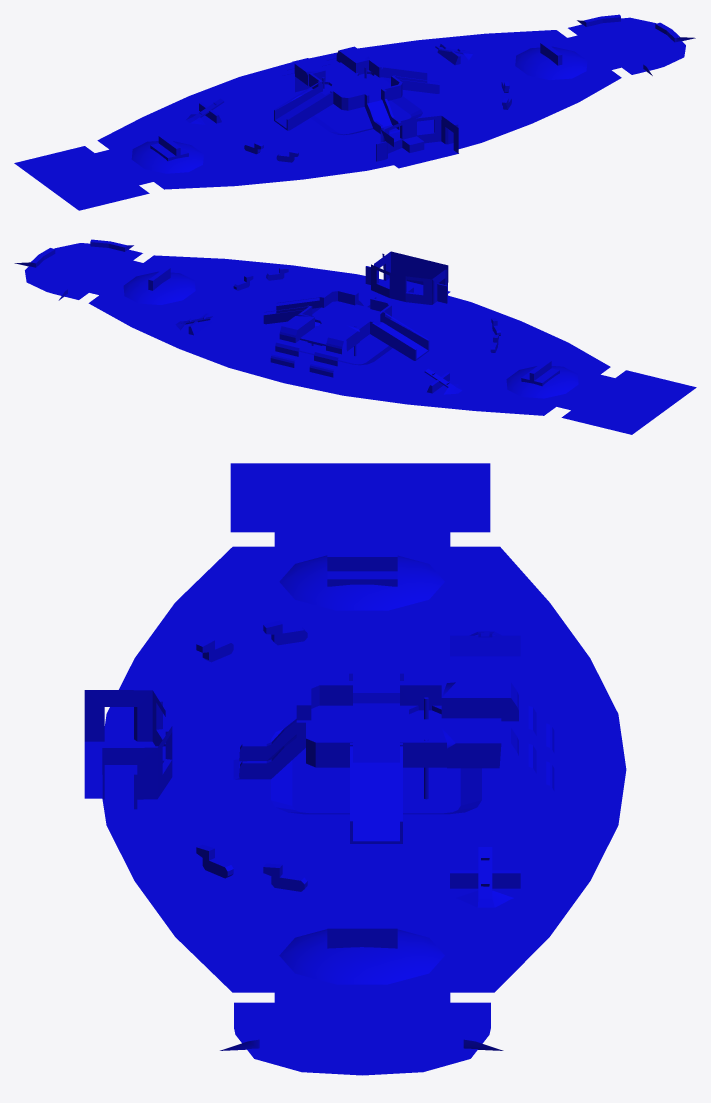
Rendered from gltf__Models__map__Village__playGround__playGround_mergedCollision.glb.
3 renders of one model, top to bottom at view 1: azimuth 30°, elevation 25°; view 2: azimuth 150°, elevation 25°; view 3: azimuth 270°, elevation 25°, orthographic. The views are drawn at different scales.
Visible parts, largest first — view 1: playGround_mergedCollision; view 2: playGround_mergedCollision; view 3: playGround_mergedCollision.
Boxes of the visible parts, box(x1,y1,x2,y2) form: playGround_mergedCollision: box(14, 14, 695, 210); playGround_mergedCollision: box(14, 239, 696, 434); playGround_mergedCollision: box(84, 463, 626, 1075).
Bounding box in the file's own units: 33.61 × 1.63 × 12.32.
